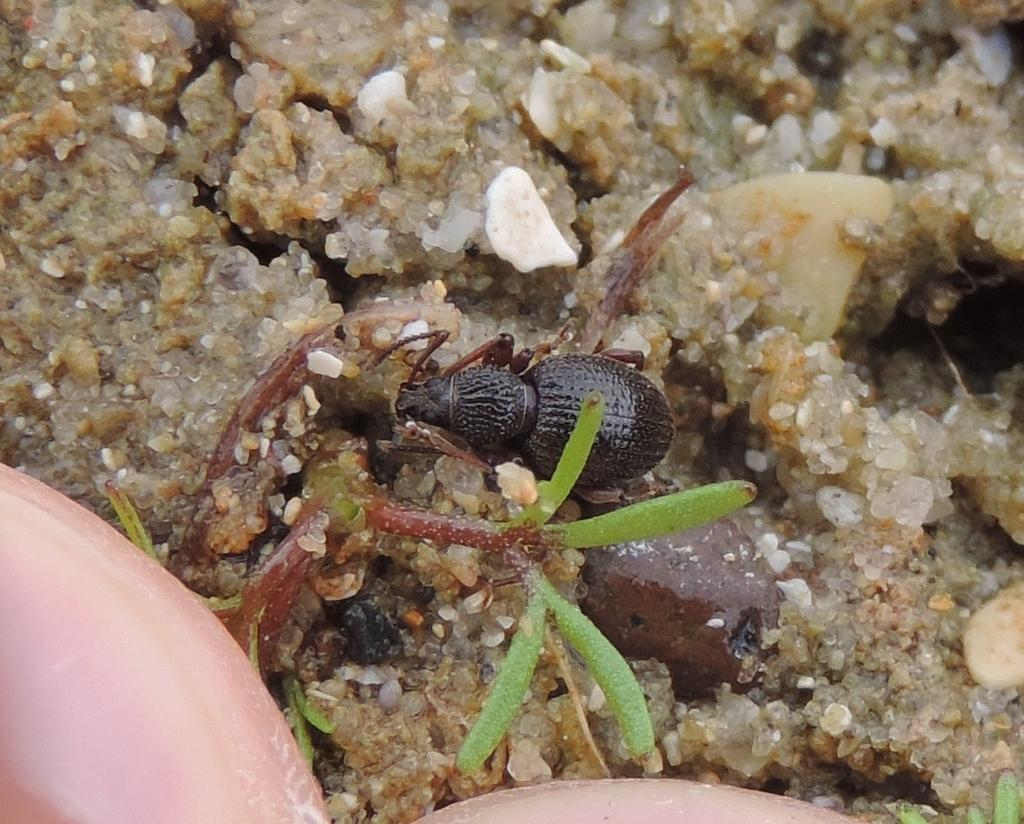weevils: (328, 279, 759, 549)
